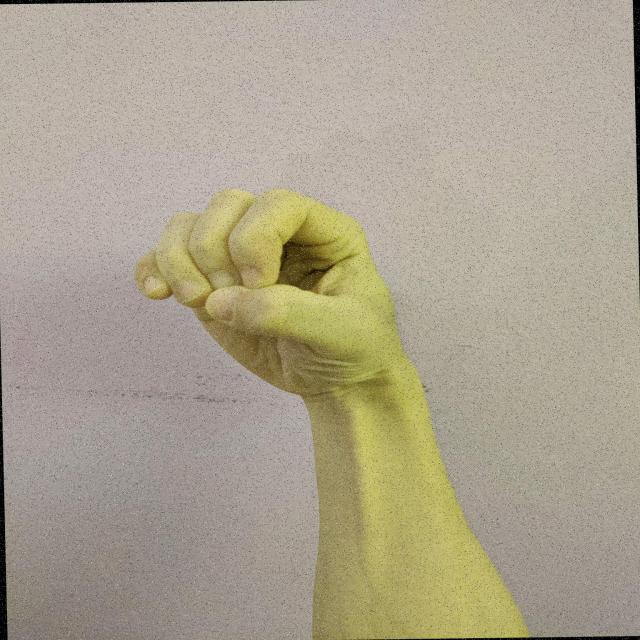O: (126, 183, 404, 403)
